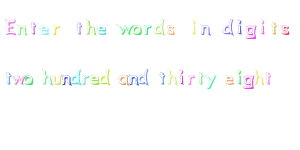W: (1, 14, 19, 42)
a: (117, 72, 130, 87)
d: (136, 61, 153, 89), (219, 13, 236, 39), (153, 14, 166, 38), (70, 64, 82, 89), (98, 67, 113, 87), (90, 73, 101, 88)
e: (96, 20, 110, 39), (224, 69, 235, 90), (39, 22, 51, 39)
g: (244, 22, 258, 42), (243, 71, 254, 92)
h: (166, 64, 179, 90), (85, 14, 96, 41), (254, 63, 265, 87), (41, 68, 53, 88)
i: (187, 15, 199, 37), (258, 14, 268, 38), (176, 65, 187, 86), (235, 64, 245, 87), (236, 17, 244, 38)
n: (199, 21, 214, 39), (127, 70, 140, 89), (59, 70, 72, 87), (16, 22, 29, 37)
o: (21, 72, 38, 88), (130, 20, 144, 39)
r: (53, 22, 65, 38), (143, 21, 154, 38), (186, 72, 197, 88), (81, 73, 90, 88)
s: (280, 21, 295, 38), (166, 23, 177, 38)
t: (2, 68, 15, 88), (194, 65, 205, 86), (262, 70, 276, 86), (269, 20, 280, 38), (157, 69, 167, 88), (29, 18, 38, 37), (73, 20, 83, 36)
u: (51, 71, 63, 87)
w: (115, 19, 136, 41), (11, 73, 28, 87)
y: (204, 70, 216, 92)
